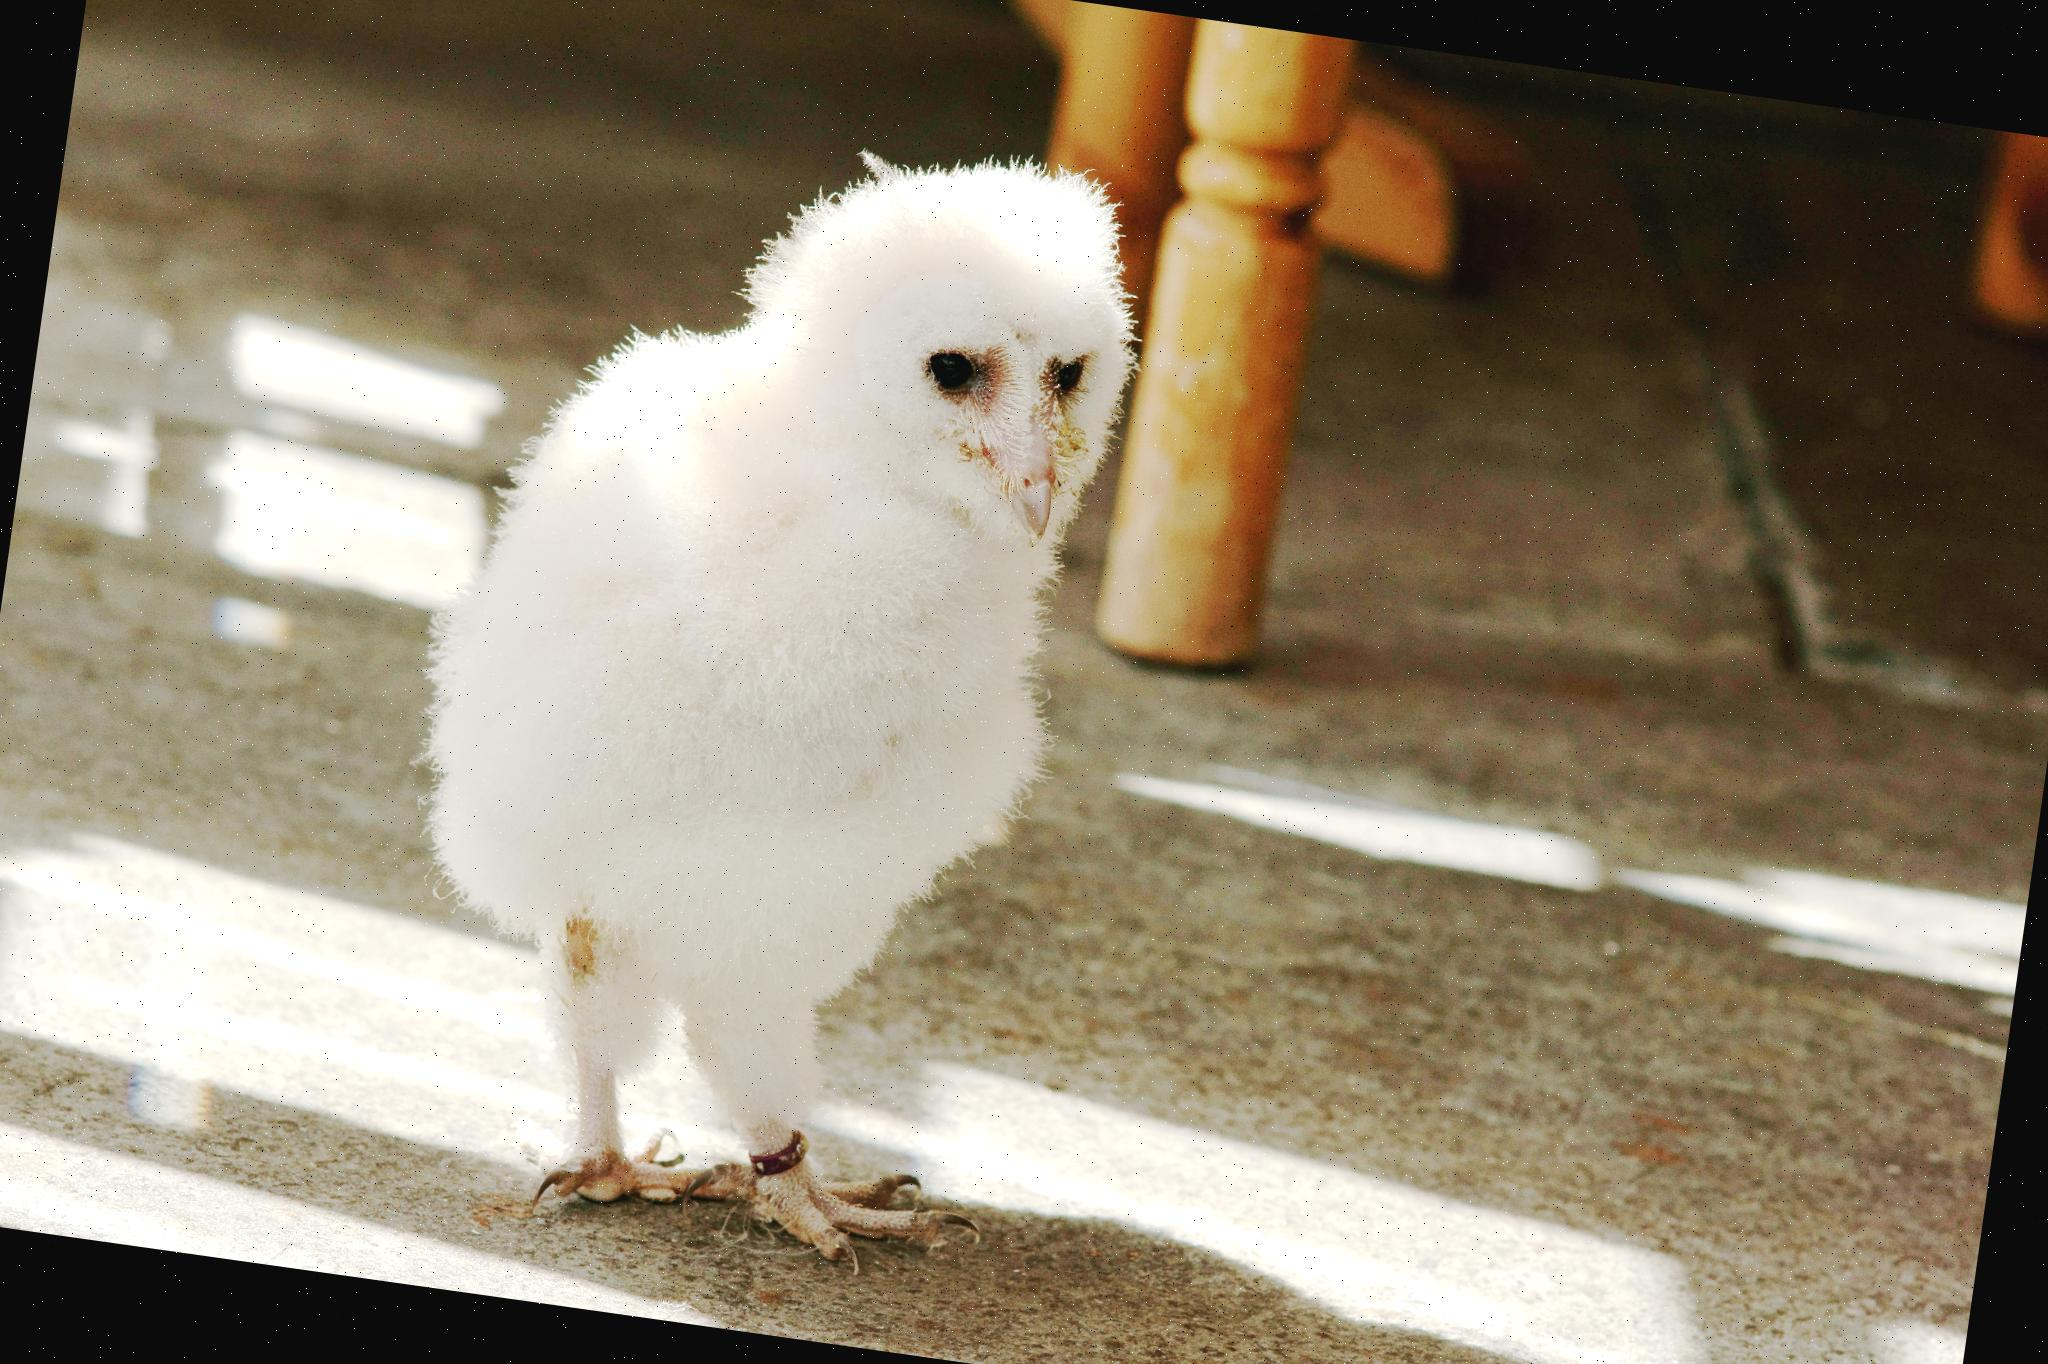Owl: (339, 87, 1175, 1274)
